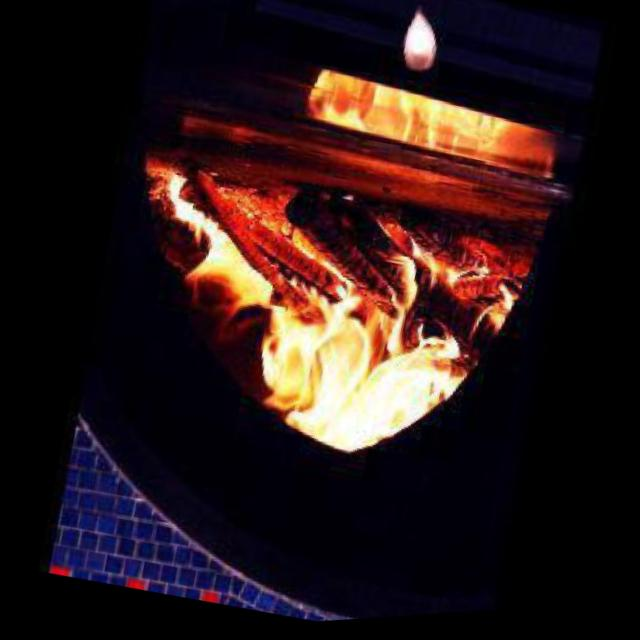Fire: (87, 155, 554, 512), (297, 61, 565, 203)
